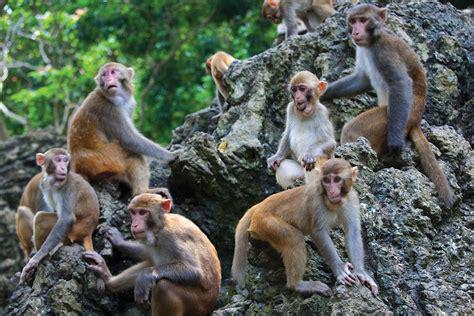monkey: (319, 4, 453, 205), (231, 159, 378, 291), (86, 193, 220, 316), (68, 63, 182, 193), (19, 148, 98, 285), (268, 71, 334, 189), (261, 1, 335, 38)
